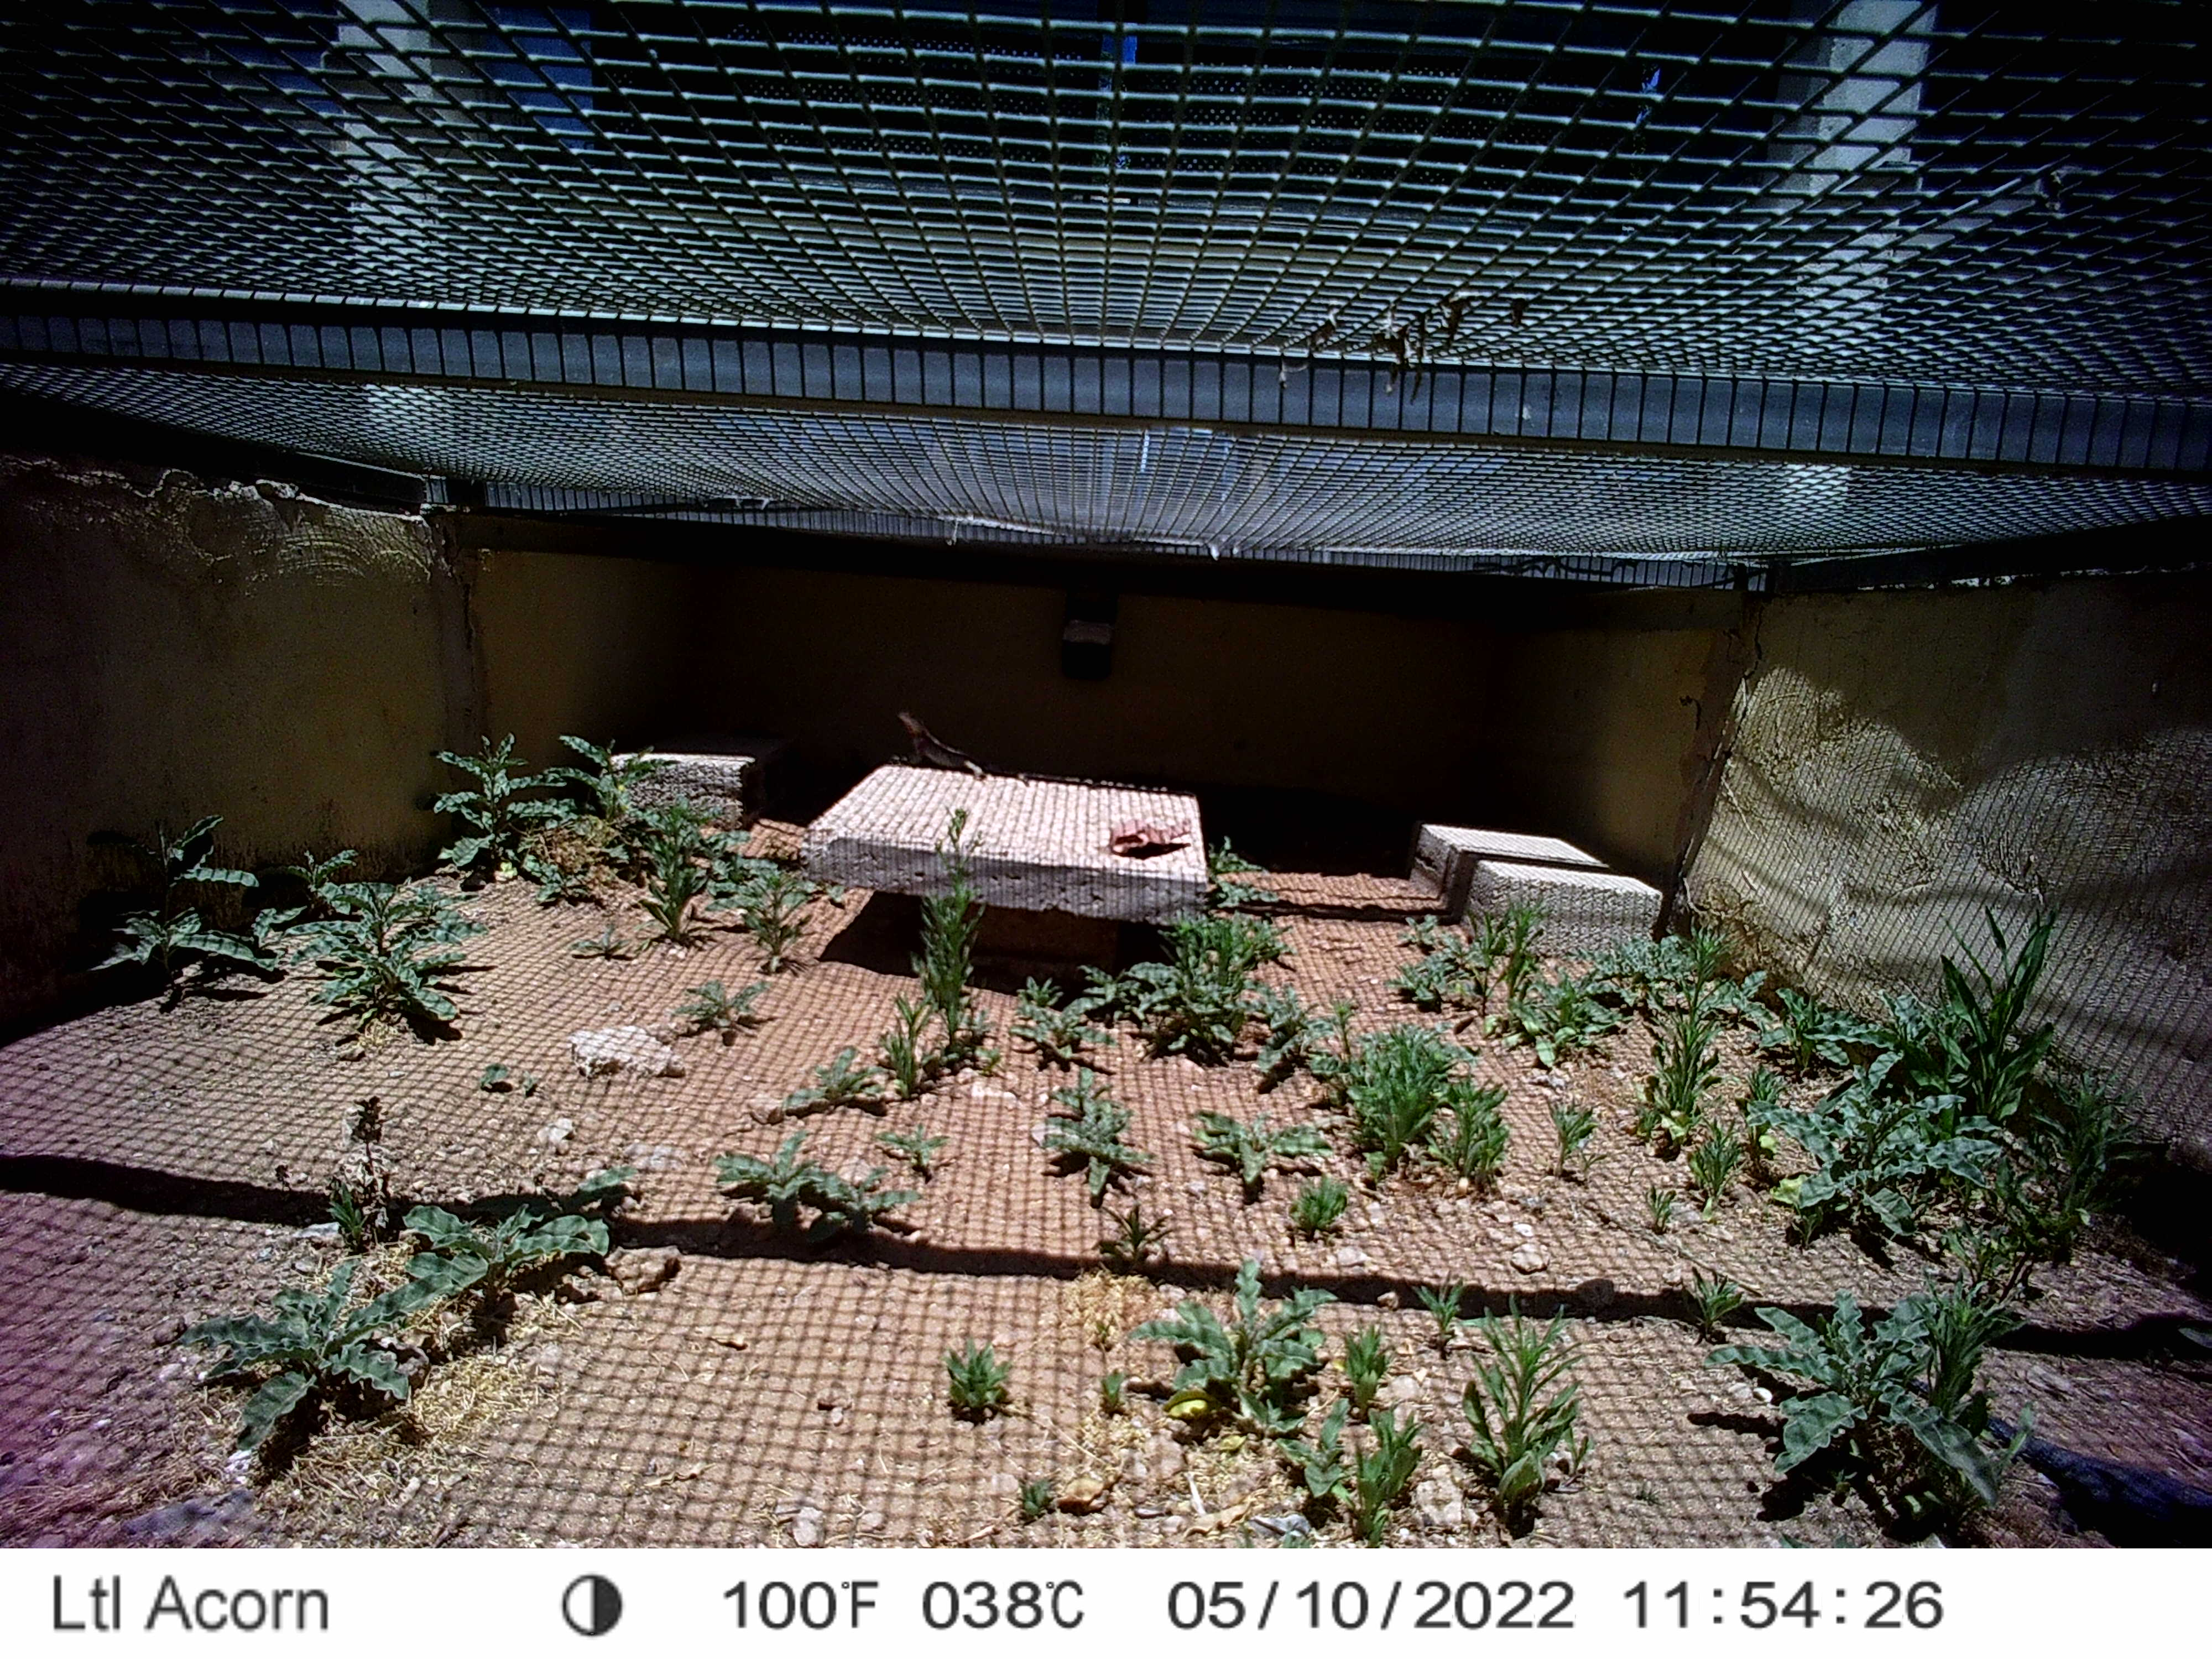lizard: (1892, 1323, 2209, 1547), (887, 702, 1047, 782)
